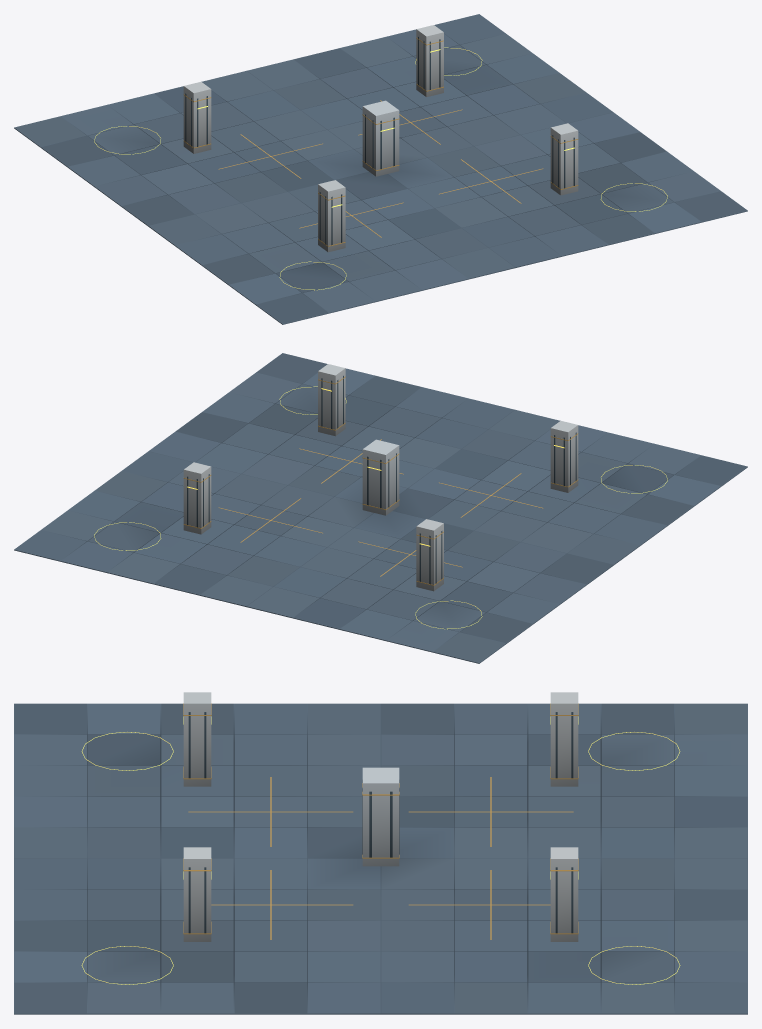
The model's file is 01_world.glb.
3 views of the same model, one above another, from view 1: azimuth 30°, elevation 25°; view 2: azimuth 150°, elevation 25°; view 3: azimuth 270°, elevation 25° (orthographic). The views are drawn at different scales.
Parts seen in each view (by area): view 1: world_01_floor_noshadow_nocol, world_11_floor_noshadow_nocol, world_00_floor_noshadow_nocol, world_10_floor_noshadow_nocol, world_11_body_nocol, world_01_body_nocol, world_00_body_nocol, world_10_body_nocol, world_11_panel_noshadow_nocol; view 2: world_00_floor_noshadow_nocol, world_10_floor_noshadow_nocol, world_01_floor_noshadow_nocol, world_11_floor_noshadow_nocol, world_11_body_nocol, world_00_body_nocol, world_10_body_nocol, world_01_body_nocol, world_11_panel_noshadow_nocol; view 3: world_10_floor_noshadow_nocol, world_11_floor_noshadow_nocol, world_00_floor_noshadow_nocol, world_01_floor_noshadow_nocol, world_11_body_nocol, world_10_body_nocol, world_00_body_nocol, world_01_body_nocol, world_11_panel_noshadow_nocol, world_11_trim_noshadow_nocol, world_00_trim_noshadow_nocol, world_01_trim_noshadow_nocol (+1 smaller).
Boxes of the visible parts, x1=… form: world_01_floor_noshadow_nocol: x1=148, y1=172, x2=515, y2=324; world_11_floor_noshadow_nocol: x1=388, y1=112, x2=747, y2=267; world_00_floor_noshadow_nocol: x1=14, y1=71, x2=368, y2=226; world_10_floor_noshadow_nocol: x1=247, y1=14, x2=612, y2=164; world_11_body_nocol: x1=362, y1=100, x2=578, y2=195; world_01_body_nocol: x1=318, y1=180, x2=345, y2=252; world_00_body_nocol: x1=183, y1=82, x2=211, y2=153; world_10_body_nocol: x1=416, y1=25, x2=443, y2=97; world_11_panel_noshadow_nocol: x1=365, y1=114, x2=574, y2=188; world_00_floor_noshadow_nocol: x1=246, y1=511, x2=613, y2=663; world_10_floor_noshadow_nocol: x1=14, y1=451, x2=373, y2=606; world_01_floor_noshadow_nocol: x1=393, y1=410, x2=747, y2=565; world_11_floor_noshadow_nocol: x1=149, y1=353, x2=514, y2=503; world_11_body_nocol: x1=318, y1=364, x2=399, y2=515; world_00_body_nocol: x1=416, y1=519, x2=443, y2=591; world_10_body_nocol: x1=183, y1=462, x2=211, y2=534; world_01_body_nocol: x1=550, y1=421, x2=578, y2=492; world_11_panel_noshadow_nocol: x1=321, y1=375, x2=396, y2=508; world_10_floor_noshadow_nocol: x1=381, y1=858, x2=747, y2=1014; world_11_floor_noshadow_nocol: x1=14, y1=858, x2=380, y2=1014; world_00_floor_noshadow_nocol: x1=381, y1=703, x2=747, y2=858; world_01_floor_noshadow_nocol: x1=14, y1=703, x2=380, y2=858; world_11_body_nocol: x1=183, y1=767, x2=399, y2=941; world_10_body_nocol: x1=550, y1=847, x2=578, y2=941; world_00_body_nocol: x1=550, y1=692, x2=578, y2=786; world_01_body_nocol: x1=183, y1=692, x2=211, y2=786; world_11_panel_noshadow_nocol: x1=188, y1=779, x2=399, y2=933; world_11_trim_noshadow_nocol: x1=183, y1=783, x2=399, y2=939; world_00_trim_noshadow_nocol: x1=409, y1=703, x2=578, y2=846; world_01_trim_noshadow_nocol: x1=183, y1=703, x2=352, y2=846.
Size of the model in its own units: 80 by 10.12 by 80.
